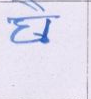o_matra: (37, 0, 53, 42)
